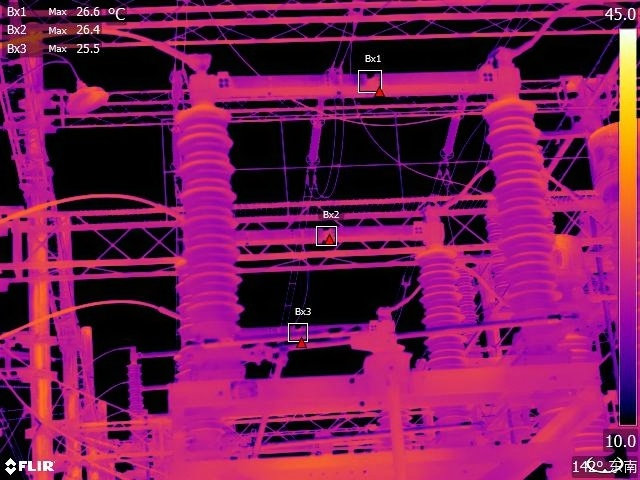post insulator: (482, 95, 563, 316), (176, 104, 245, 347), (413, 251, 475, 426), (127, 361, 147, 420)
switch: (177, 42, 528, 113), (233, 203, 452, 255), (242, 301, 396, 352), (124, 344, 180, 366)
